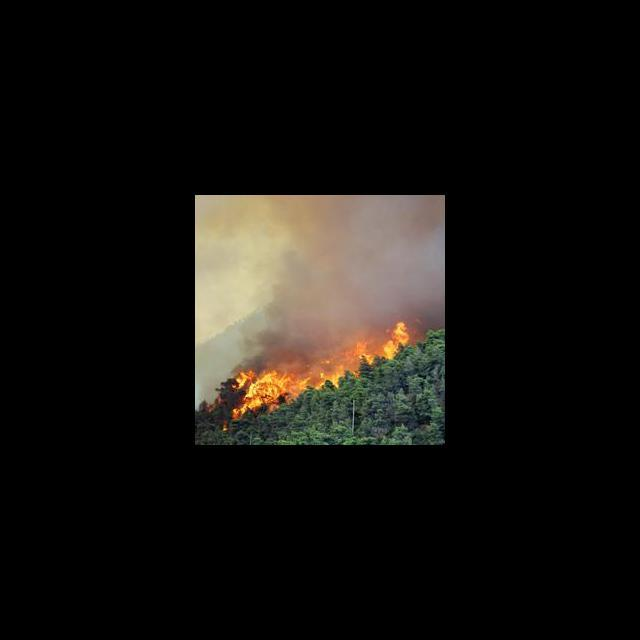Fire: (234, 322, 407, 411)
